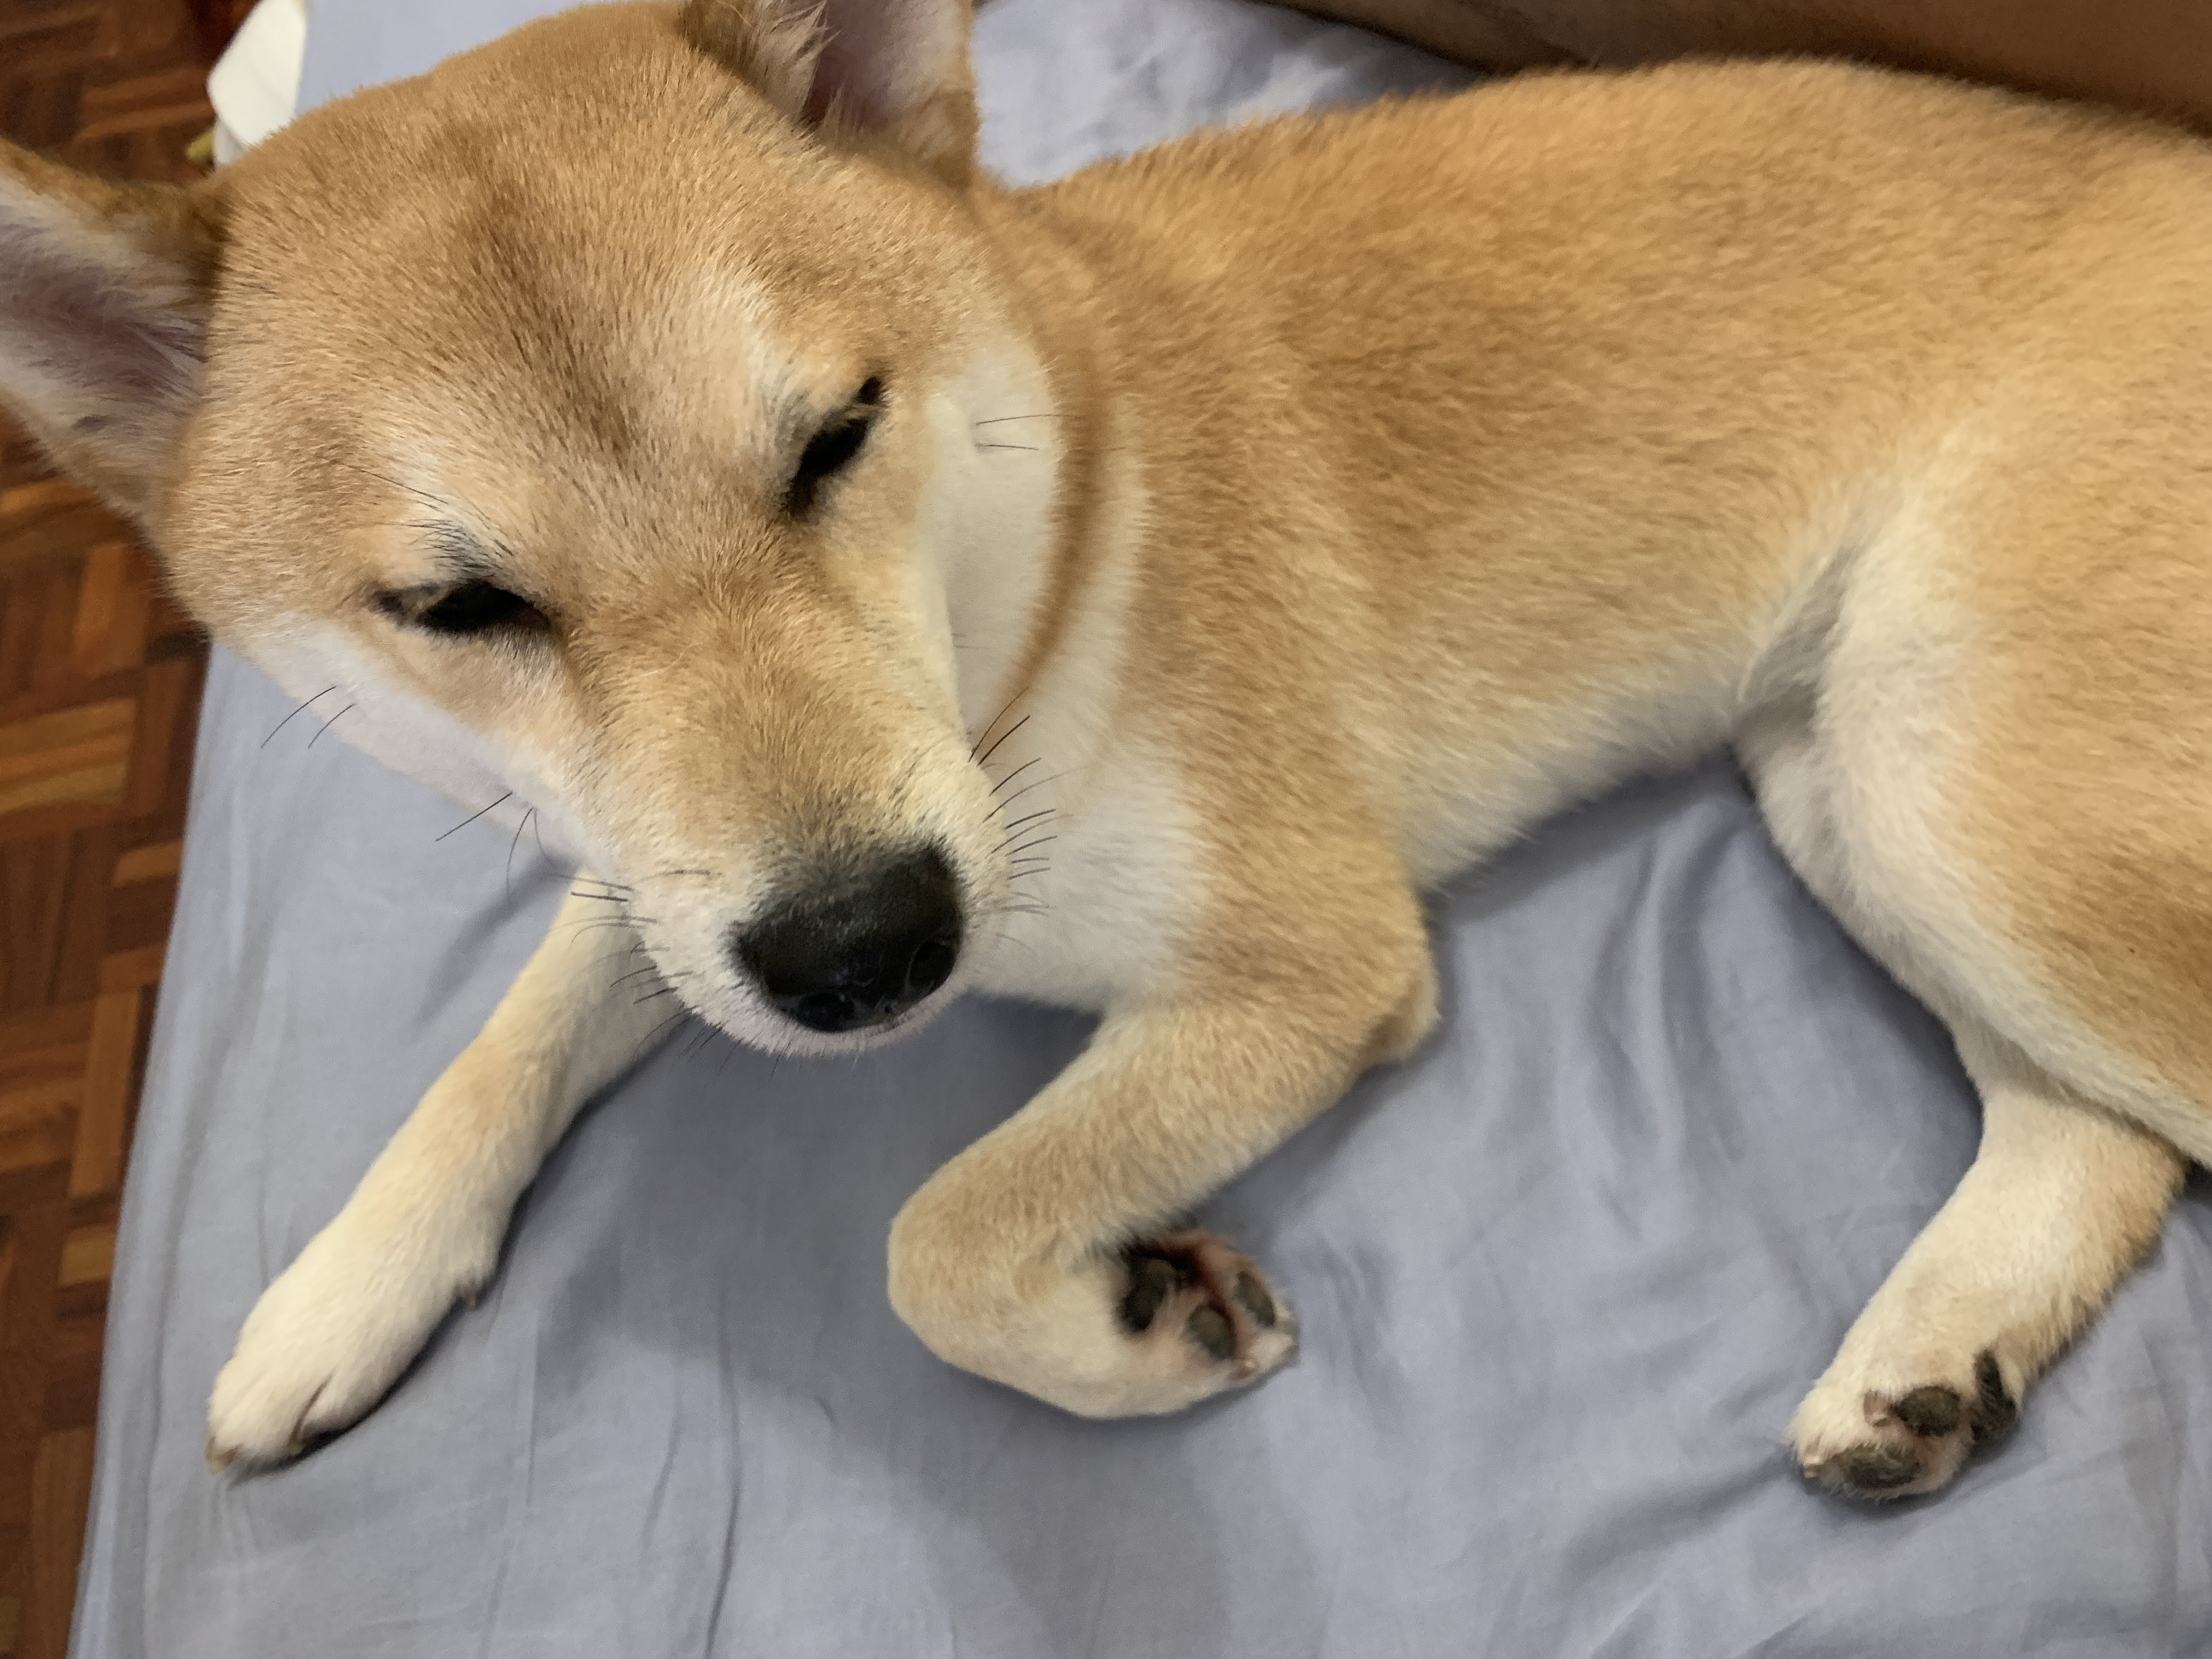Get down: (5, 37, 2212, 1520)
